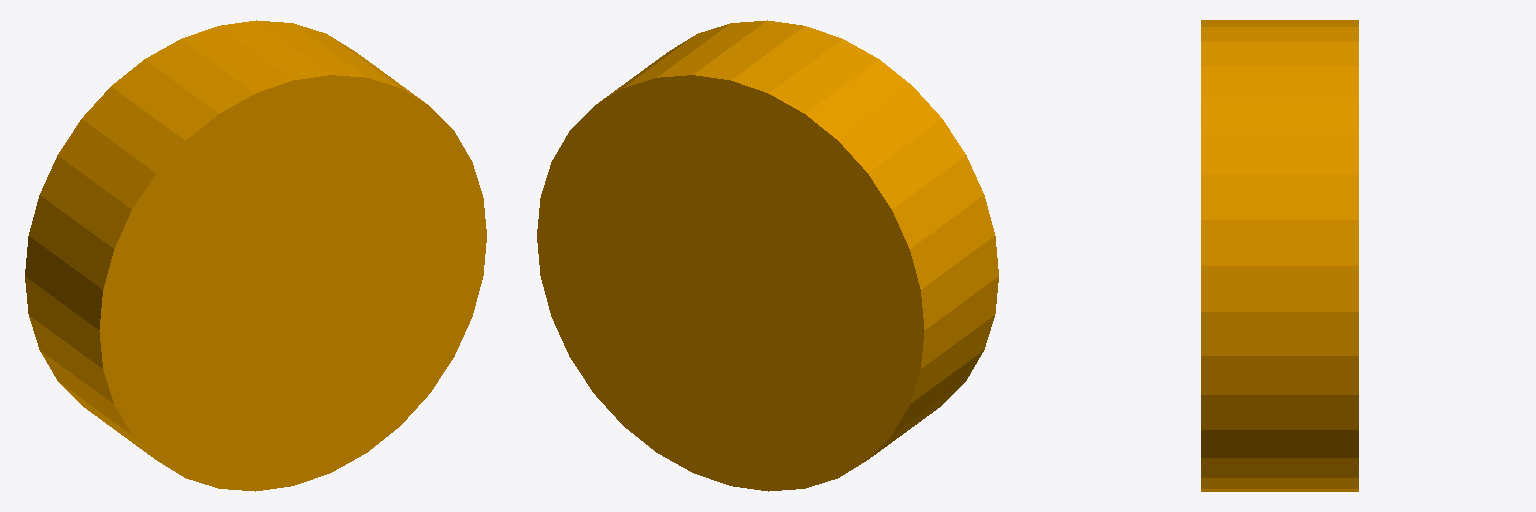
robot.urdf — caster:
<?xml version="1.0"?>
<robot name="caster">
  <link name="caster_link">

    <inertial>
      <origin xyz="0 0 0" rpy="0 1.5708 1.5708"/>
      <mass value="0.5"/>
      <inertia ixx="0.0032" ixy="0.0" ixz="0.0" iyy="0.0032" iyz="0.0" izz="0.0056"/>
    </inertial>


    <visual>
      <origin xyz="0 0 0" rpy="0 1.5708 1.5708"/>
      <geometry>
        <cylinder radius="0.15" length="0.1"/>
      </geometry>
    </visual>



    <collision>
      <origin xyz="0 0 0" rpy="0 1.5708 1.5708"/>
      <geometry>
        <cylinder radius="0.15" length="0.1"/>
      </geometry>
    </collision>

  </link>

<gazebo reference="caster_link">
    <mu1 value="0.001"/>
    <mu2 value="0.001"/>
  </gazebo>
  
</robot>

--- Facts derived from the render (not from the file) ---
3 views of the same robot in one strip: view 1: azimuth 30°, elevation 25°; view 2: azimuth 150°, elevation 25°; view 3: azimuth 270°, elevation 25° (orthographic).
Model caster with 1 links and 0 joints (none), rooted at caster_link, posed every joint at zero.
Links seen in each view (by area): view 1: caster_link; view 2: caster_link; view 3: caster_link.
Link boxes in pixels (left/top/right/bottom): caster_link: left=25, top=20, right=486, bottom=491; caster_link: left=537, top=20, right=998, bottom=491; caster_link: left=1201, top=20, right=1358, bottom=491.
Bounding box of the posed robot: 0.3 × 0.1 × 0.3 m (x, y, z).
Geometry: primitives only (box / cylinder / sphere), no mesh files.
